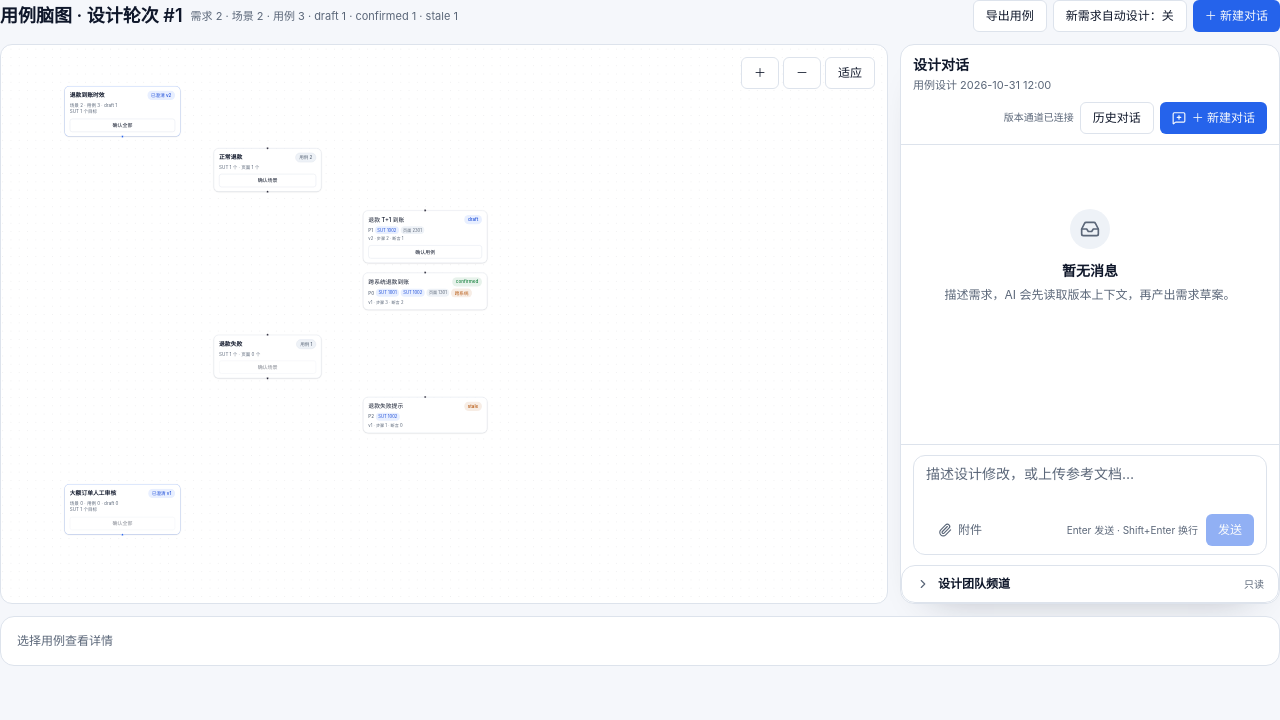
Test case: DesignTab › opens the export format dialog from the toolbar
The width and height of the screenshot is (1280, 720).
Click the button with test id "export-cases": (1010, 16) [973,0,1047,32]
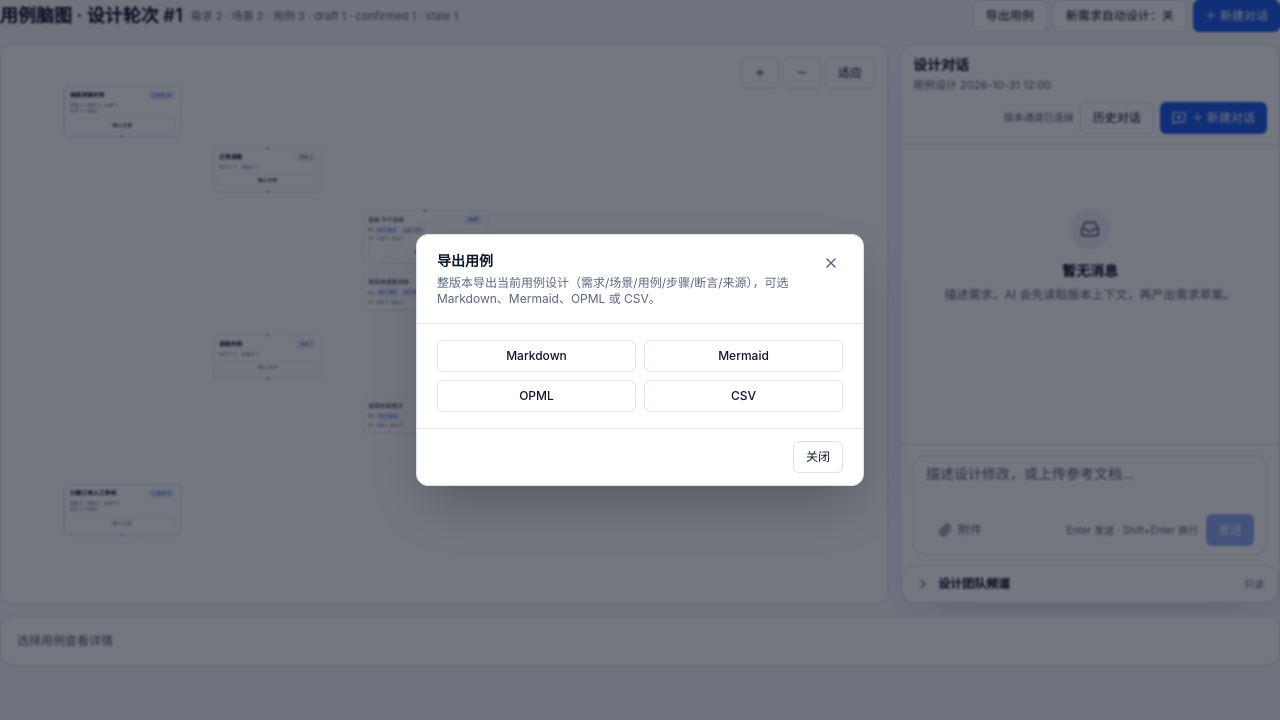
Expected: the dialog "导出用例" is shown, [416,234,864,486]
Expected: the button with test id "export-format-markdown" is shown, [437,340,636,372]
